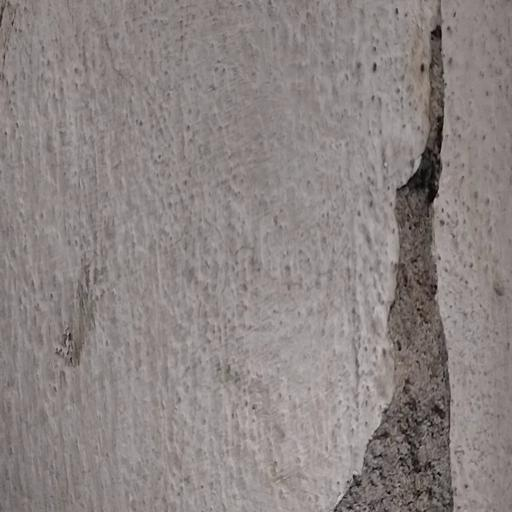spalling: (329, 8, 466, 512)
